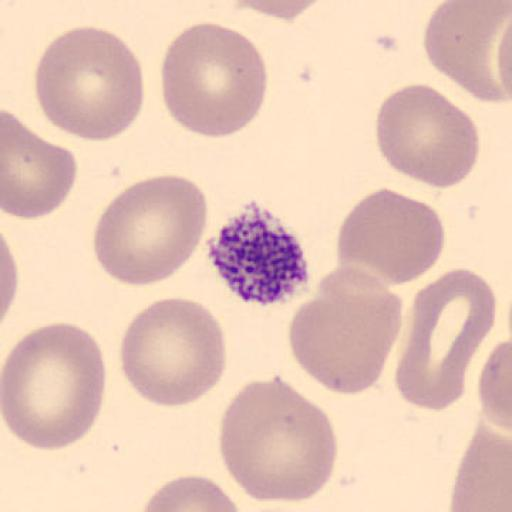Platelet: (205, 206, 313, 307)
RBC: (217, 374, 339, 504), (287, 263, 403, 397), (395, 266, 498, 412), (1, 320, 107, 453), (91, 173, 209, 287), (160, 20, 270, 140), (34, 24, 144, 142), (119, 296, 228, 408), (373, 82, 480, 189), (335, 186, 446, 286), (422, 0, 512, 104), (2, 110, 78, 220), (449, 426, 512, 512), (138, 474, 242, 512), (478, 337, 512, 435), (222, 0, 330, 23), (1, 232, 19, 321), (496, 22, 512, 104)
